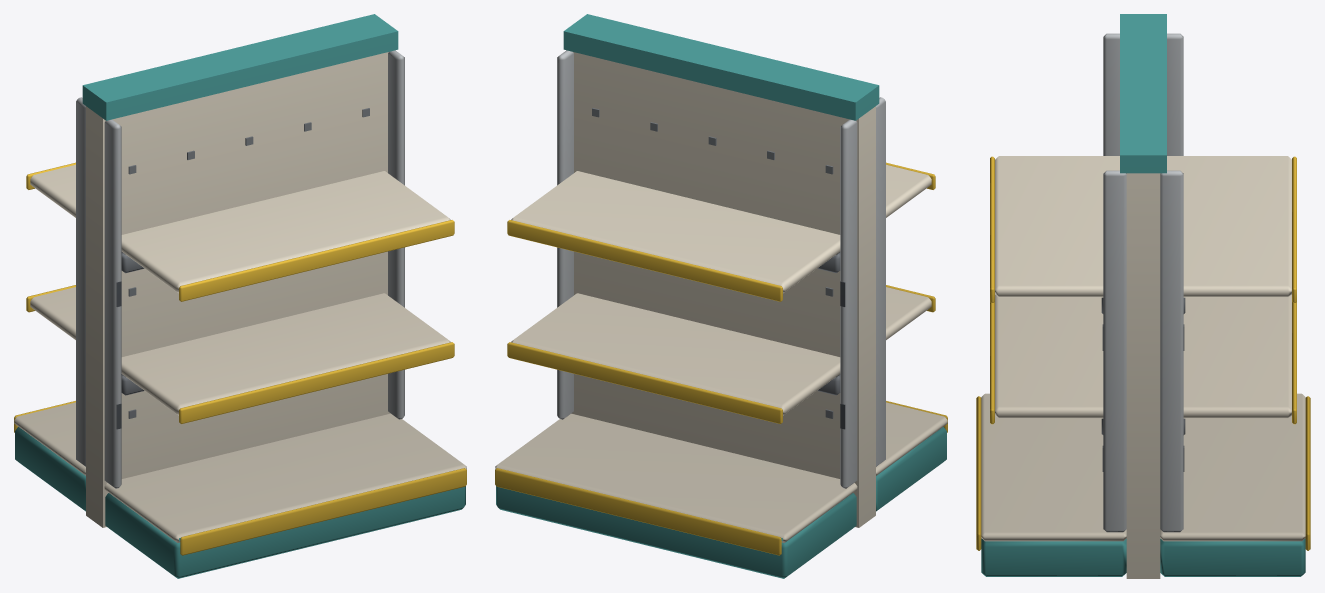
Rendered from Gondola_Island_Low_10.glb.
The picture shows the model from 3 angles, left to right: view 1: azimuth 30°, elevation 25°; view 2: azimuth 150°, elevation 25°; view 3: azimuth 270°, elevation 25°; orthographic projection.
Visible parts, largest first — view 1: SM_Gondola_Island_Low_10; view 2: SM_Gondola_Island_Low_10; view 3: SM_Gondola_Island_Low_10.
Boxes of the visible parts, x1,y1,x2,y2 form: SM_Gondola_Island_Low_10: (14,14,466,578); SM_Gondola_Island_Low_10: (495,14,947,578); SM_Gondola_Island_Low_10: (976,14,1310,578).
Bounding box in the file's own units: 1 × 1.4 × 1.
Materials: 1 (1 with a texture image).
